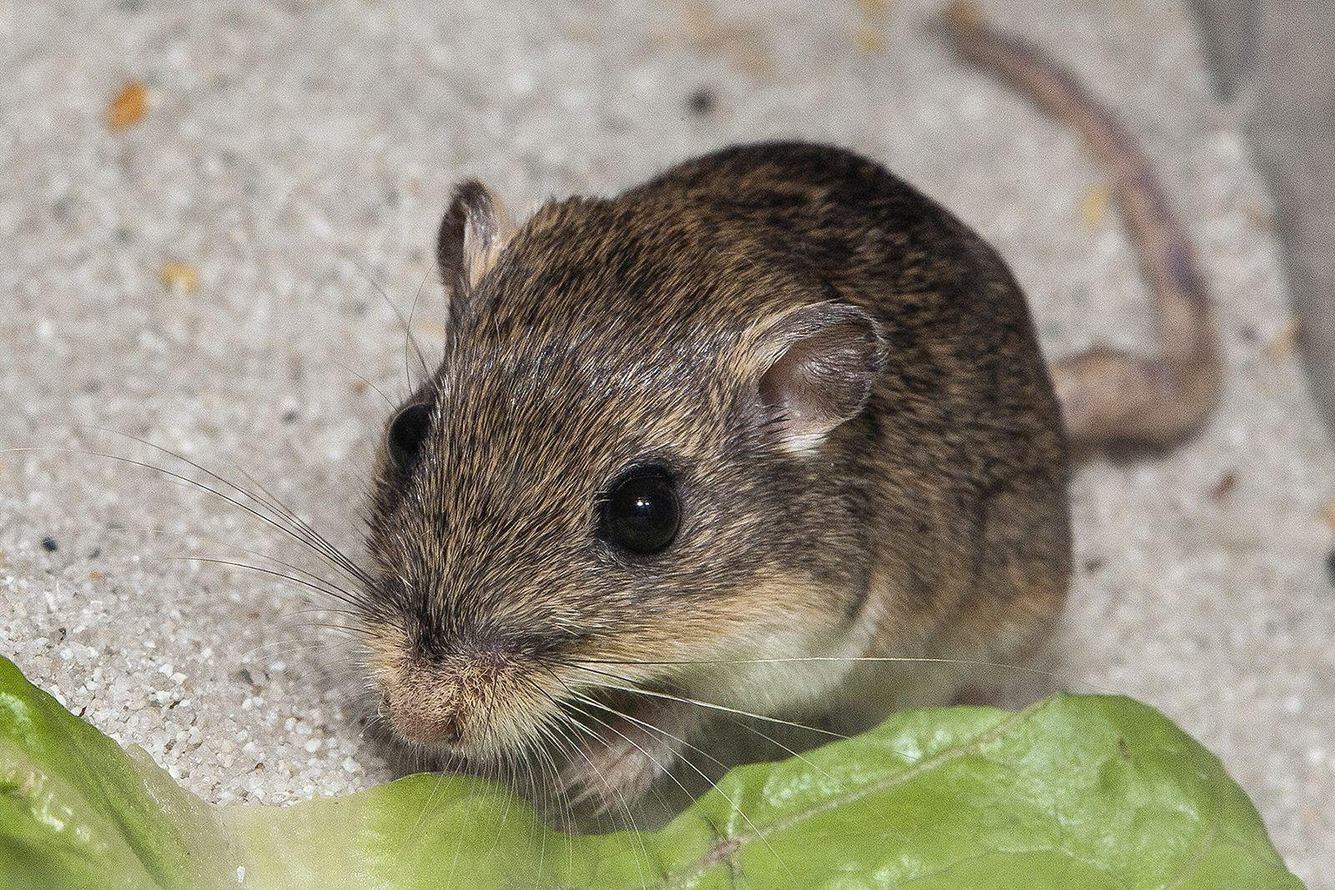rat: (360, 25, 1218, 836)
